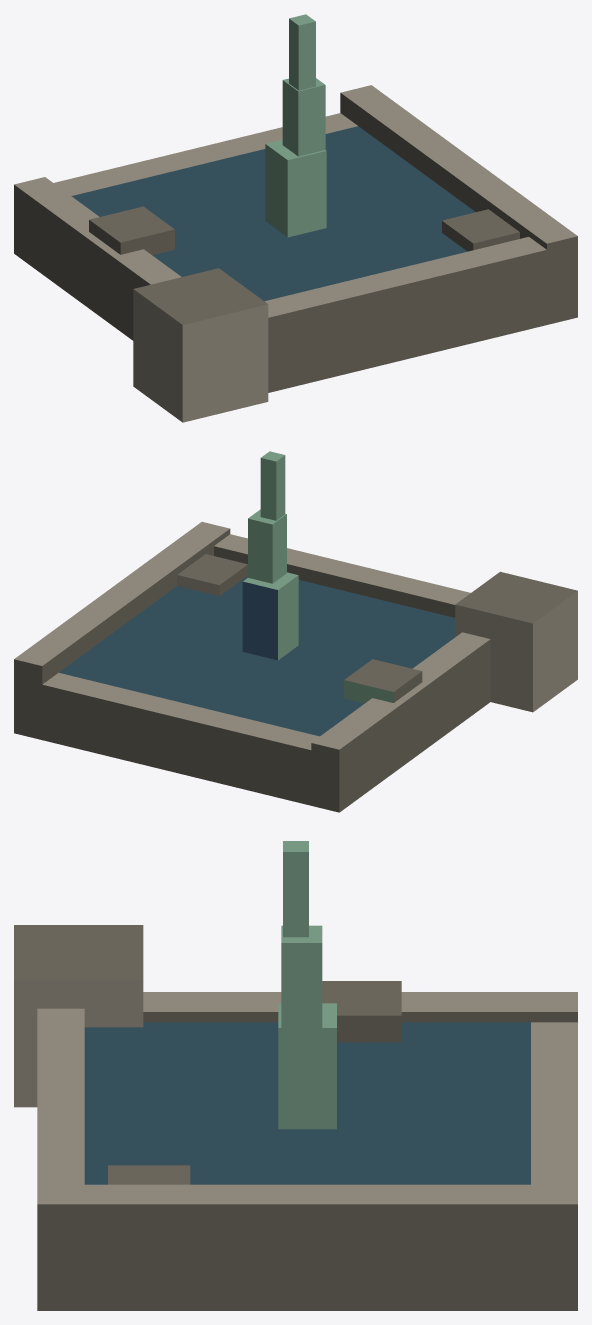
The model's file is terr_spring.glb.
3 renders of one model, top to bottom at view 1: azimuth 30°, elevation 25°; view 2: azimuth 150°, elevation 25°; view 3: azimuth 270°, elevation 25°, orthographic. The views are drawn at different scales.
Parts seen in each view (by area): view 1: terr_spring; view 2: terr_spring; view 3: terr_spring.
Part boxes in pixels (x1,y1,x2,y2): terr_spring: [14, 14, 577, 422]; terr_spring: [14, 451, 577, 812]; terr_spring: [14, 841, 577, 1310].
Bounding box in the file's own units: 1.04 × 0.66 × 0.96.
1 material, 1 textured.
